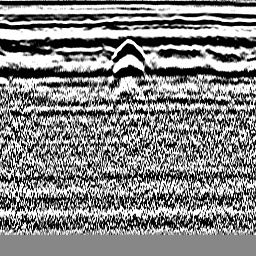cavity: (107, 37, 147, 66)
